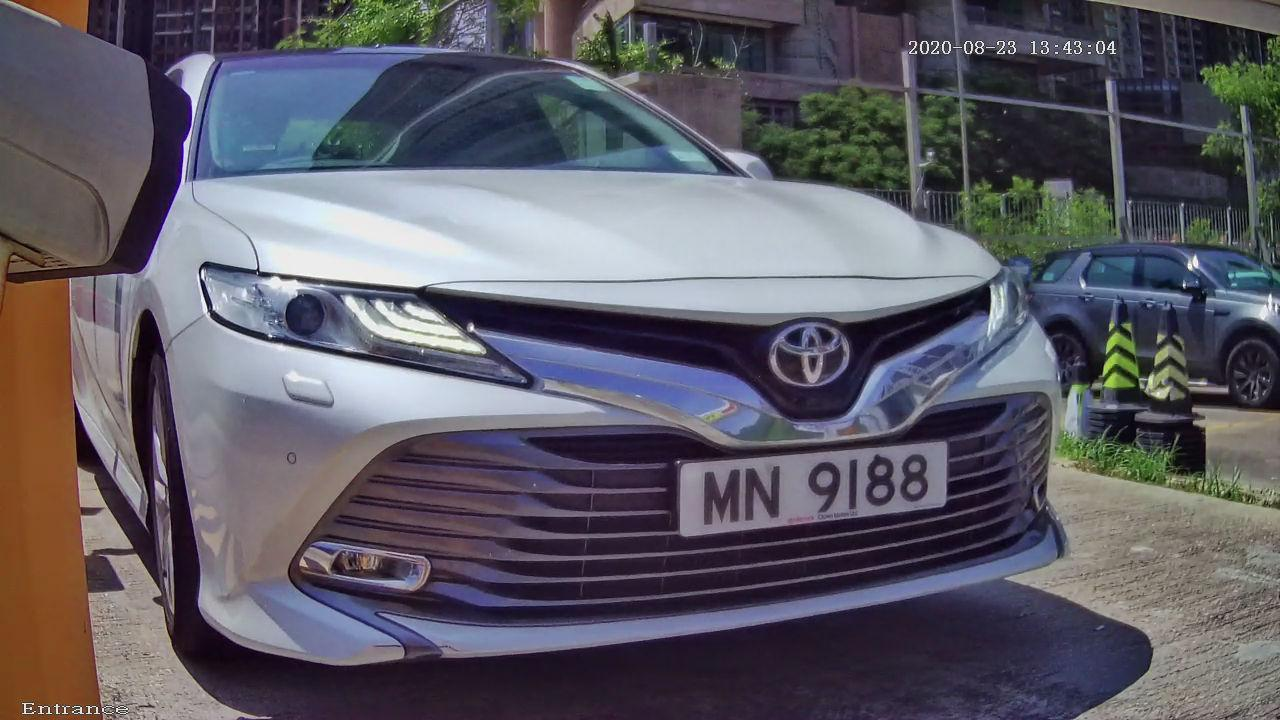Car: (23, 4, 1155, 714)
License Plate: (624, 380, 984, 577)
